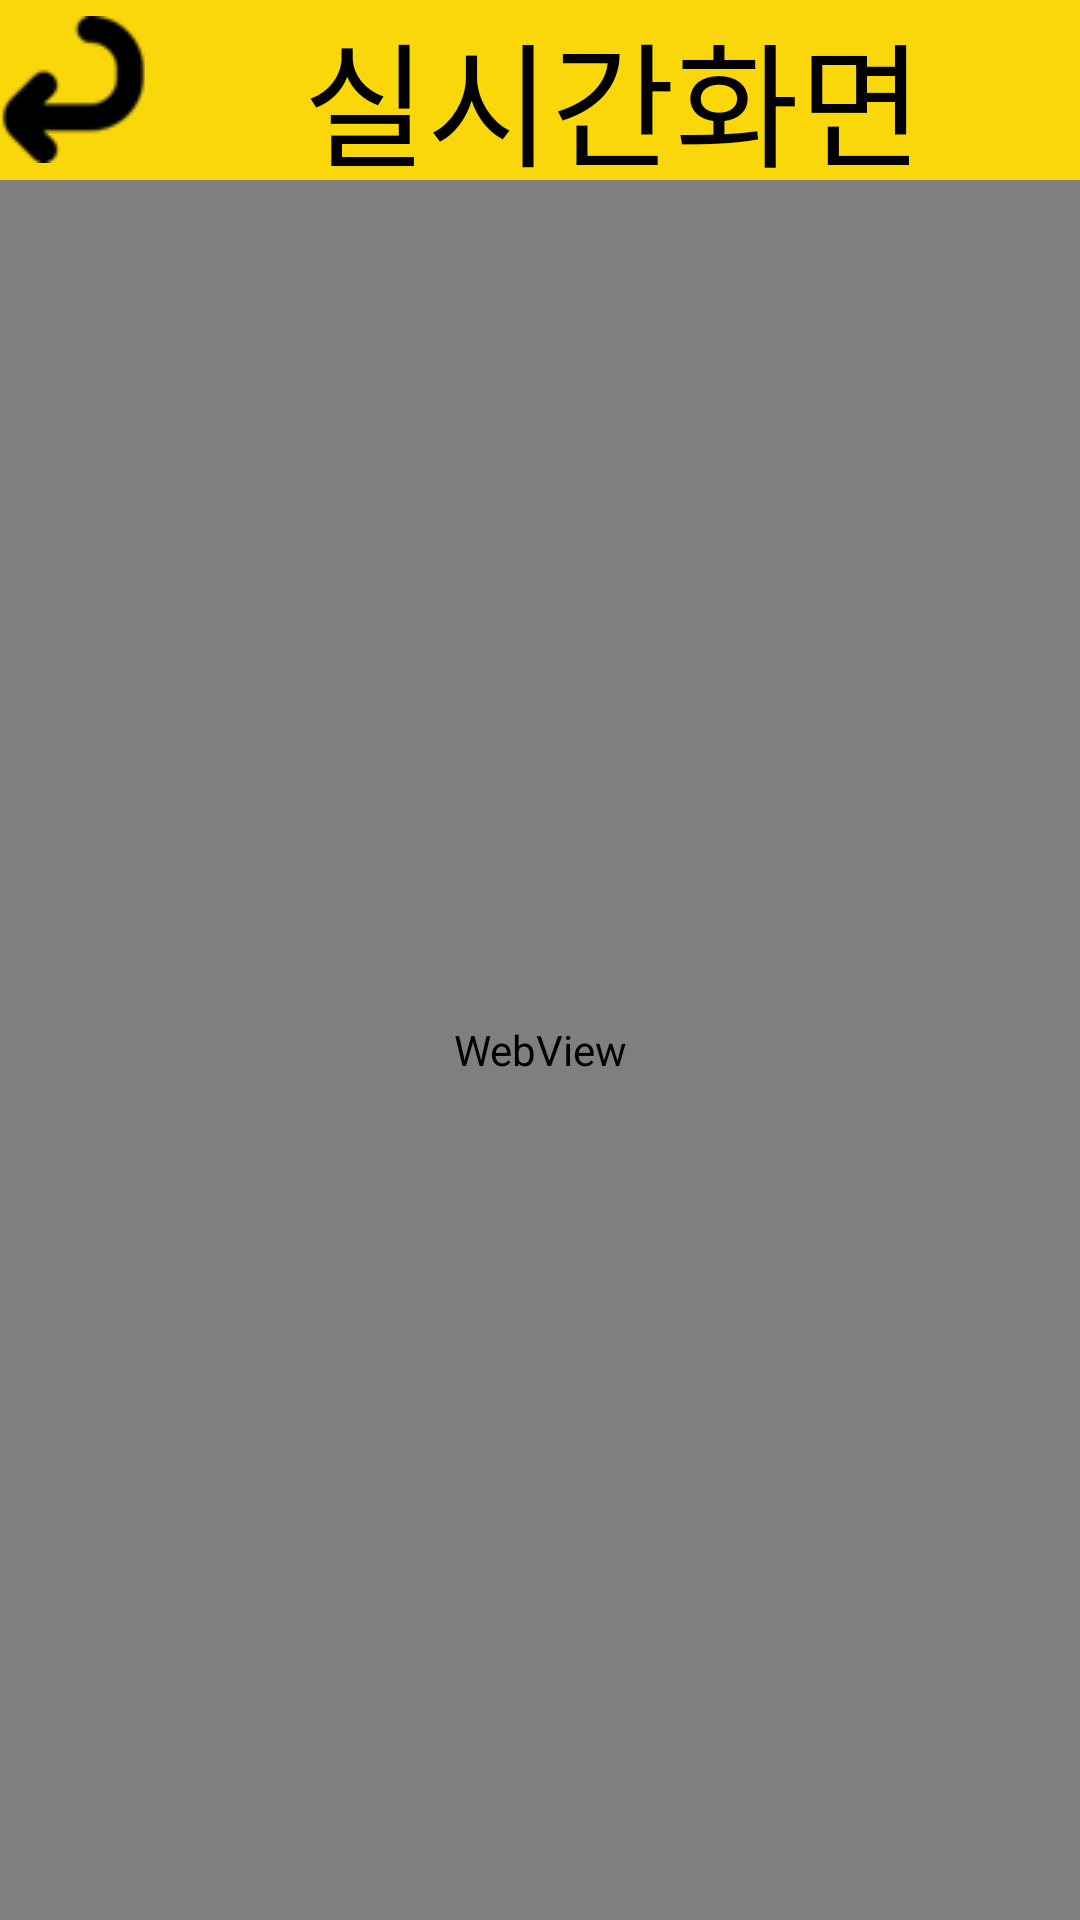

Icon click points for this 1080px×1920px phone screenshot, format (x,y):
back: (73,89)
